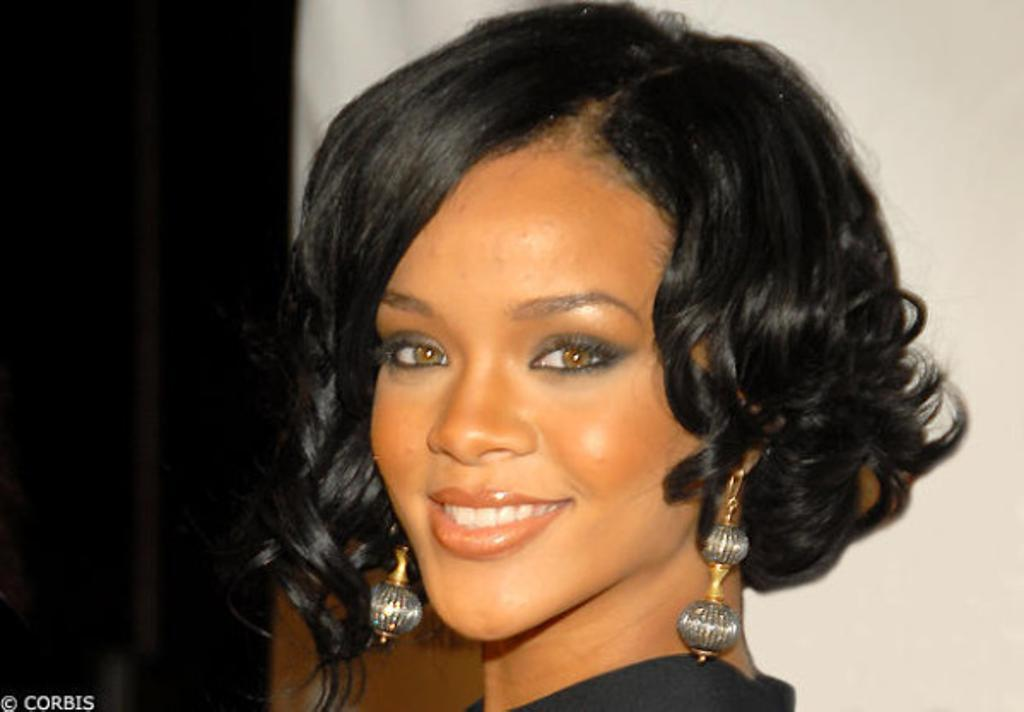face: (377, 141, 719, 635)
